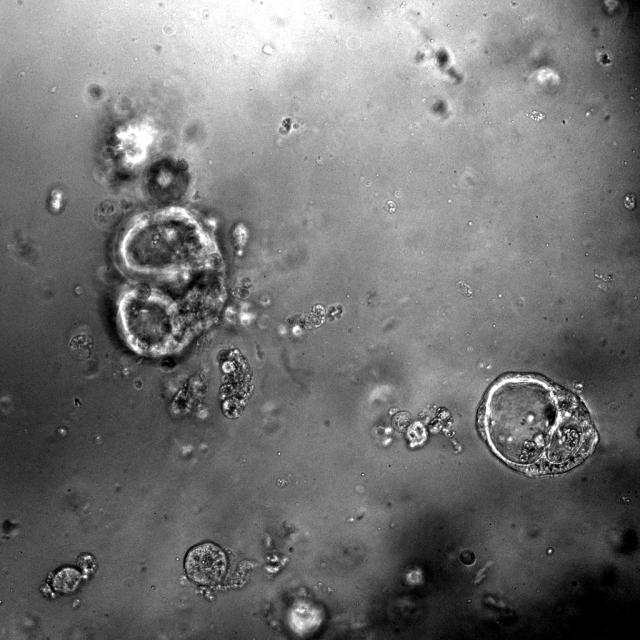organoid: (99, 156, 254, 358), (476, 372, 599, 477), (183, 540, 252, 601), (388, 404, 461, 452), (39, 552, 98, 599), (162, 365, 209, 420), (219, 346, 252, 419), (287, 303, 343, 329), (69, 333, 92, 359)
